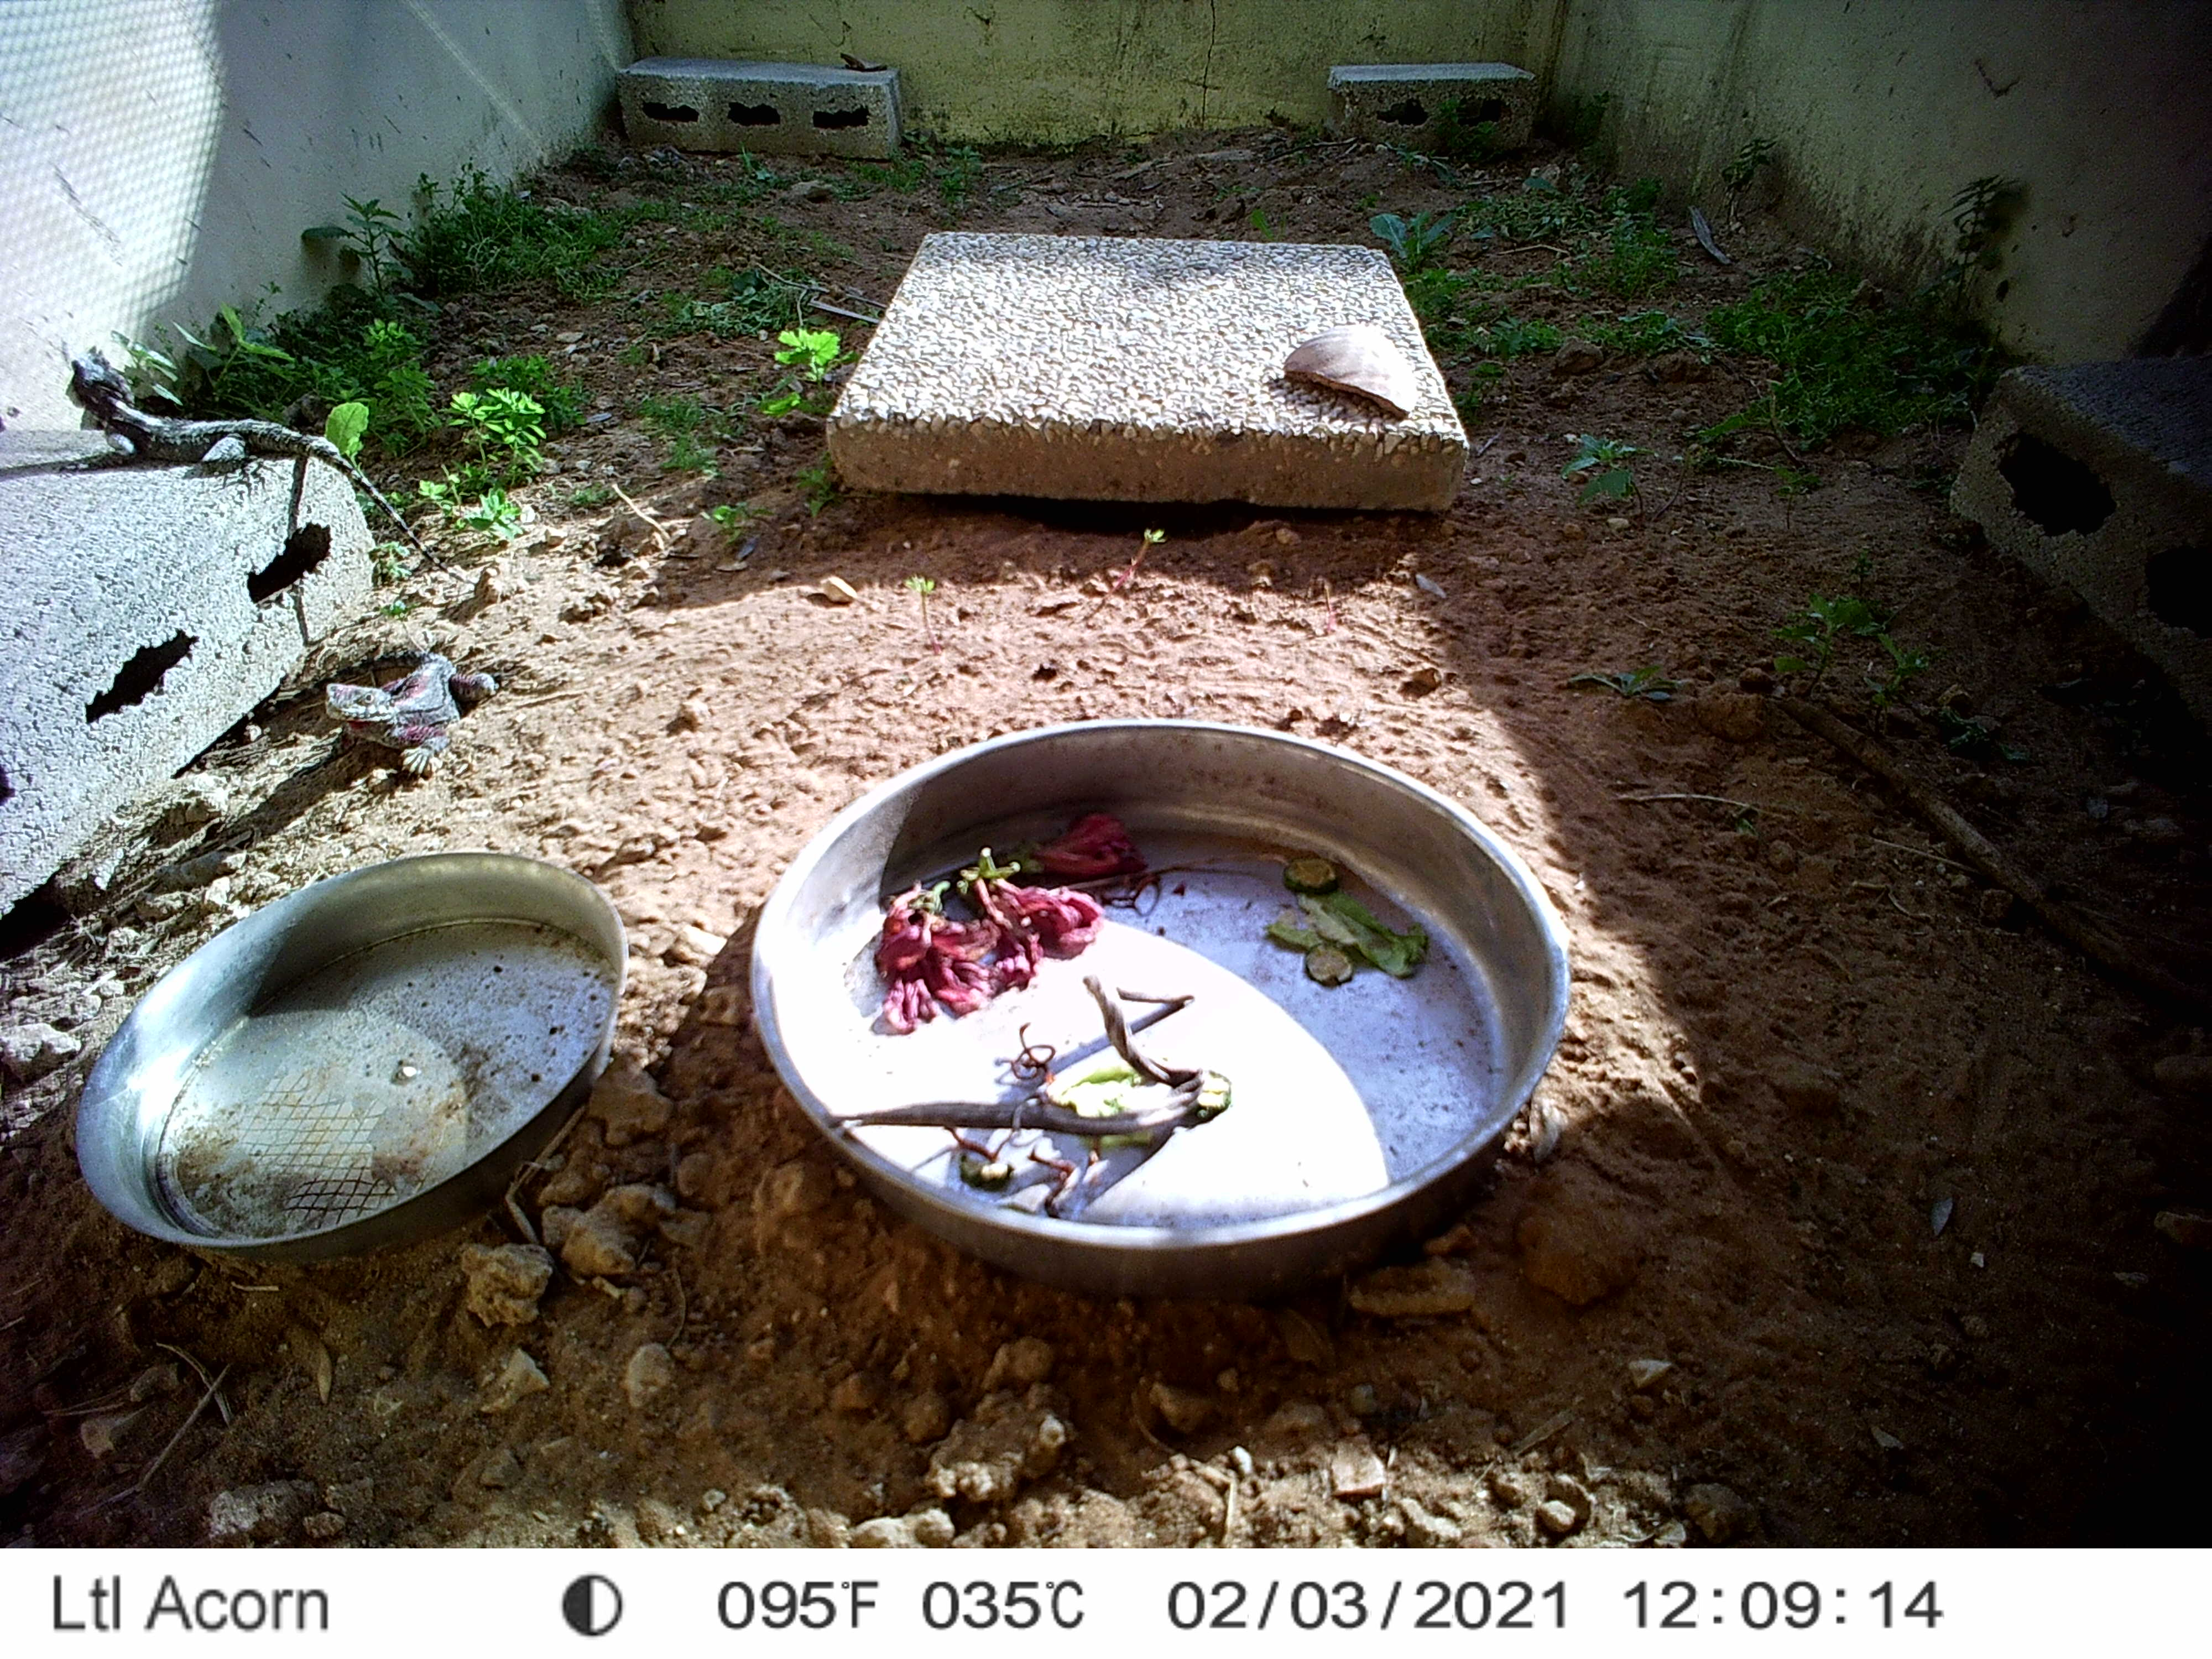lizard: (64, 357, 496, 591), (260, 641, 498, 796)
